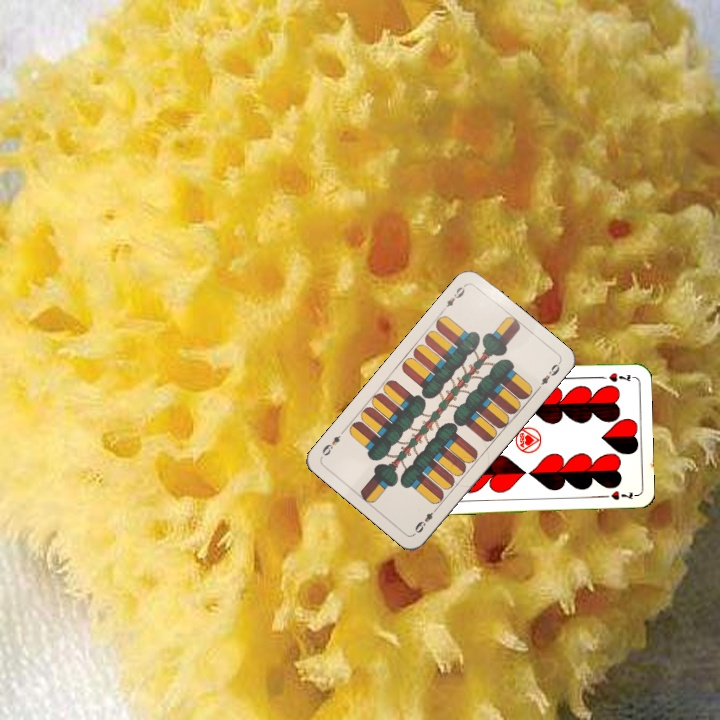E9: (438, 280, 469, 314), (411, 503, 440, 536)
H7: (594, 368, 635, 384)
